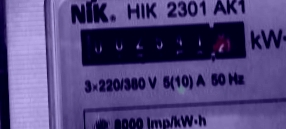0: (92, 33, 106, 55), (113, 30, 126, 52)
1: (194, 25, 206, 49)
2: (133, 29, 148, 51)
4: (174, 26, 186, 47)
5: (153, 28, 167, 51)
6: (216, 40, 228, 53)
screen: (68, 11, 259, 73)
